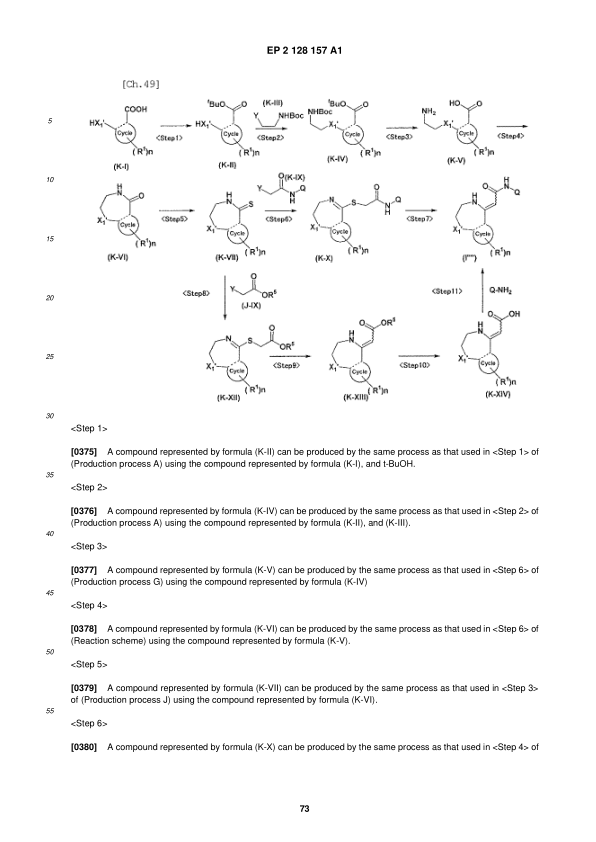compound-structure: (204, 324, 295, 417), (327, 306, 407, 411), (312, 180, 402, 266), (456, 305, 528, 409), (85, 179, 158, 270), (301, 98, 386, 168), (453, 177, 521, 264), (417, 96, 499, 165), (193, 91, 262, 170), (85, 101, 158, 173), (202, 187, 265, 266), (254, 169, 310, 211), (228, 270, 278, 312), (254, 94, 300, 130)
reaction: (70, 87, 571, 420)
reaction-arrow: (425, 268, 515, 317), (254, 169, 310, 222), (249, 94, 300, 146), (182, 270, 228, 319), (392, 342, 442, 376), (269, 345, 314, 376), (380, 113, 419, 148), (401, 198, 448, 226), (153, 117, 194, 142), (494, 115, 527, 143), (157, 203, 201, 224)
